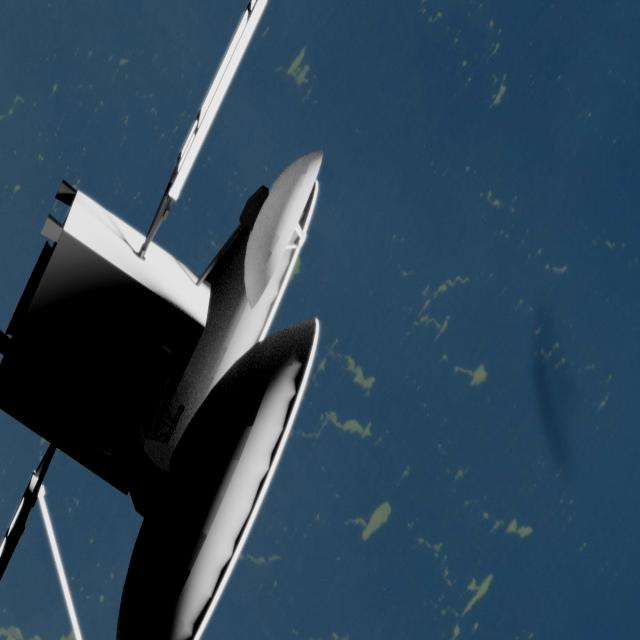satellite: (0, 4, 437, 640)
